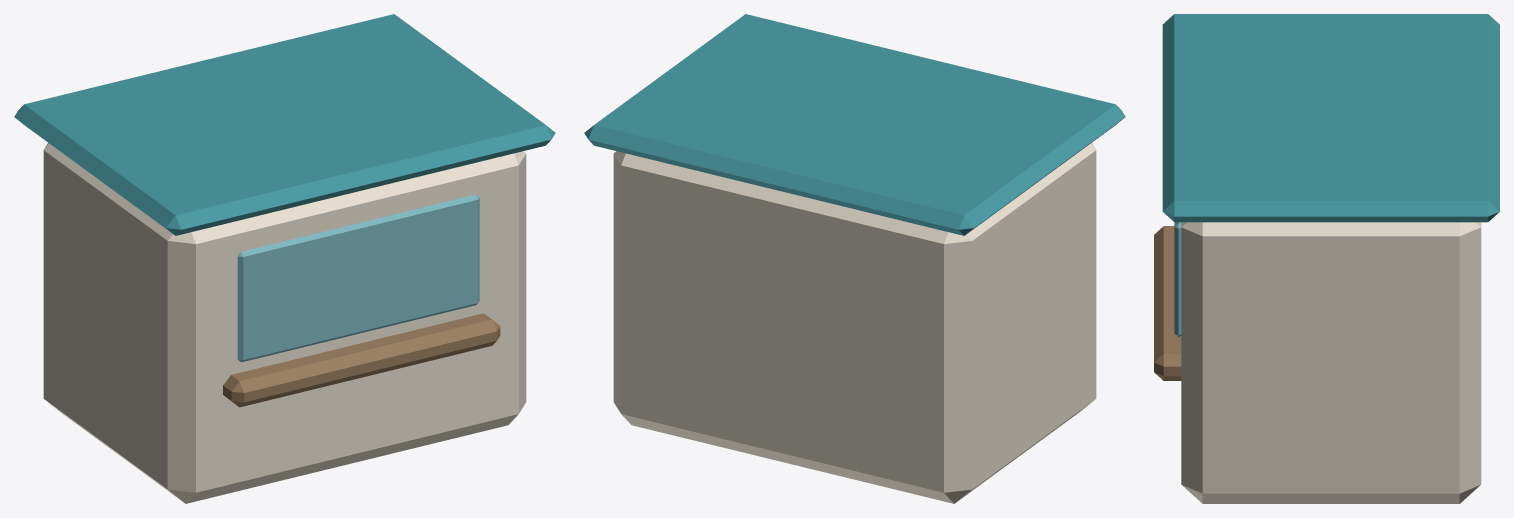
Rendered from kiosk_civic_lod2_v2.glb.
3 renders of one model, left to right at view 1: azimuth 30°, elevation 25°; view 2: azimuth 150°, elevation 25°; view 3: azimuth 270°, elevation 25°, orthographic. The views are drawn at different scales.
Visible parts, largest first — view 1: LOD2_KIOSK_CIVIC_Body, LOD2_KIOSK_CIVIC_Roof, LOD2_KIOSK_CIVIC_Window, LOD2_KIOSK_CIVIC_Counter; view 2: LOD2_KIOSK_CIVIC_Body, LOD2_KIOSK_CIVIC_Roof; view 3: LOD2_KIOSK_CIVIC_Body, LOD2_KIOSK_CIVIC_Roof, LOD2_KIOSK_CIVIC_Counter, LOD2_KIOSK_CIVIC_Window.
Boxes of the visible parts, x1,y1,x2,y2 form: LOD2_KIOSK_CIVIC_Body: [43, 143, 526, 503]; LOD2_KIOSK_CIVIC_Roof: [14, 14, 555, 235]; LOD2_KIOSK_CIVIC_Window: [237, 194, 479, 362]; LOD2_KIOSK_CIVIC_Counter: [223, 313, 500, 407]; LOD2_KIOSK_CIVIC_Body: [613, 143, 1096, 503]; LOD2_KIOSK_CIVIC_Roof: [584, 14, 1125, 235]; LOD2_KIOSK_CIVIC_Body: [1181, 222, 1481, 503]; LOD2_KIOSK_CIVIC_Roof: [1162, 14, 1499, 222]; LOD2_KIOSK_CIVIC_Counter: [1154, 226, 1181, 380]; LOD2_KIOSK_CIVIC_Window: [1174, 222, 1181, 337].
Size of what is drawn, in the model's own units: 4.35 by 3.25 by 3.23.
